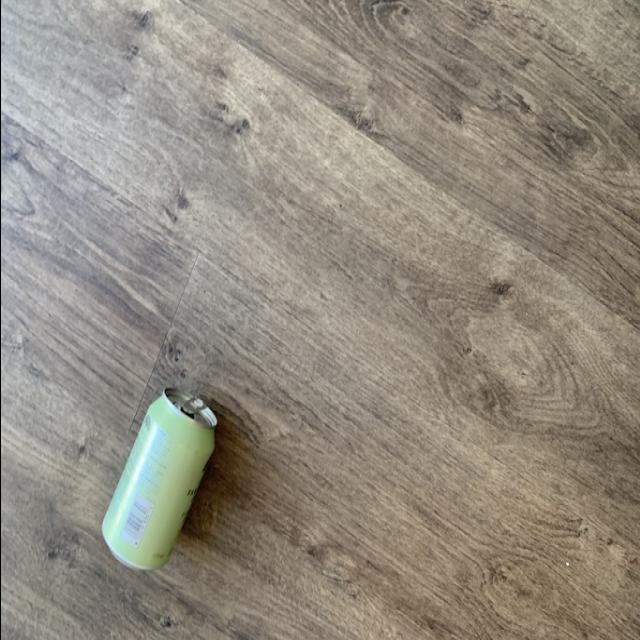Aluminum Can: (95, 360, 223, 585)
